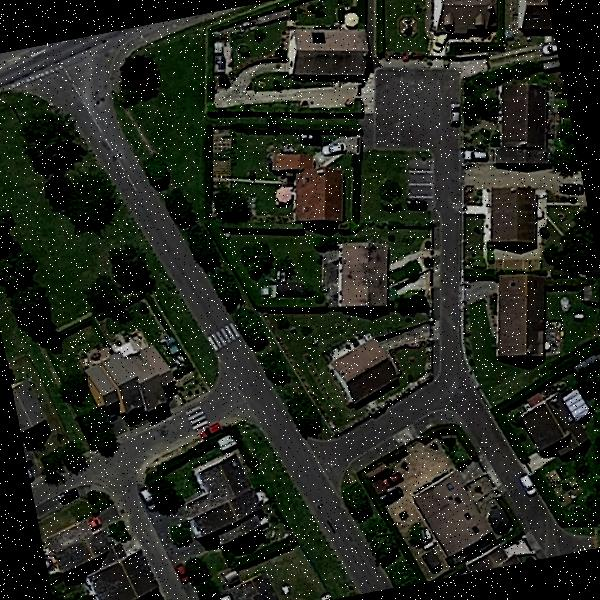Buildings: (400, 450, 494, 576), (178, 451, 268, 546), (476, 74, 564, 168), (86, 336, 176, 416), (483, 273, 555, 364), (284, 14, 366, 86), (276, 158, 356, 228), (327, 242, 401, 317), (476, 183, 552, 255), (519, 386, 584, 461), (325, 340, 398, 403), (43, 510, 111, 574), (8, 366, 53, 448), (88, 558, 166, 600), (209, 568, 289, 600), (429, 0, 496, 35), (508, 0, 554, 43)
